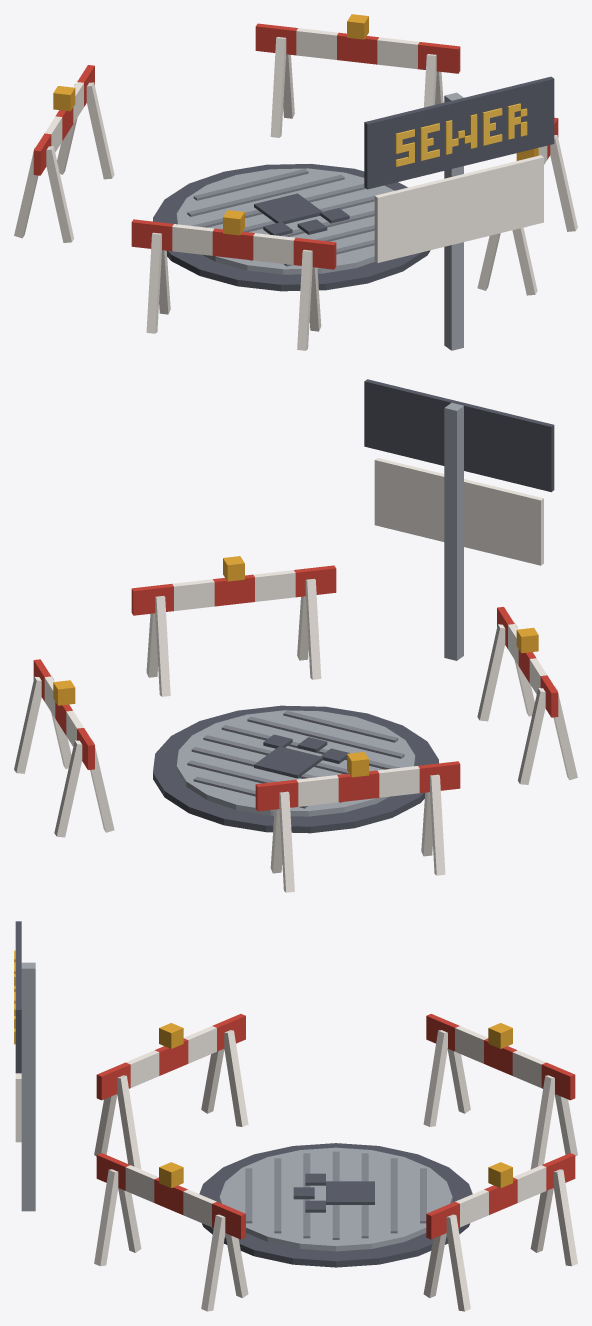
Rendered from CatCafe_Sewer_Manhole.fbx.
The picture shows the model from 3 angles, top to bottom: view 1: azimuth 30°, elevation 25°; view 2: azimuth 150°, elevation 25°; view 3: azimuth 270°, elevation 25°; orthographic projection. The views are drawn at different scales.
Parts seen in each view (by area): view 1: CatCafe_Sewer_Manhole, CatCafe_Sewer_Manhole_Cover, CatCafe_Sewer_Manhole_SignBoard, CatCafe_Sewer_Manhole_Lamp_Bulb; view 2: CatCafe_Sewer_Manhole, CatCafe_Sewer_Manhole_Cover, CatCafe_Sewer_Manhole_SignBoard, CatCafe_Sewer_Manhole_Lamp_Bulb; view 3: CatCafe_Sewer_Manhole, CatCafe_Sewer_Manhole_Cover, CatCafe_Sewer_Manhole_Lamp_Bulb.
Boxes of the visible parts, <box> form: CatCafe_Sewer_Manhole: <box>14,23,577,350</box>; CatCafe_Sewer_Manhole_Cover: <box>176,168,394,274</box>; CatCafe_Sewer_Manhole_SignBoard: <box>374,155,543,262</box>; CatCafe_Sewer_Manhole_Lamp_Bulb: <box>53,14,538,235</box>; CatCafe_Sewer_Manhole: <box>14,379,577,892</box>; CatCafe_Sewer_Manhole_Cover: <box>176,710,415,816</box>; CatCafe_Sewer_Manhole_SignBoard: <box>374,458,543,565</box>; CatCafe_Sewer_Manhole_Lamp_Bulb: <box>53,556,538,777</box>; CatCafe_Sewer_Manhole: <box>14,921,577,1311</box>; CatCafe_Sewer_Manhole_Cover: <box>219,1147,452,1251</box>; CatCafe_Sewer_Manhole_Lamp_Bulb: <box>159,1023,512,1188</box>.
Bounding box in the file's own units: 8.31 × 4.65 × 9.68.
Materials: 1 (1 with a texture image).
